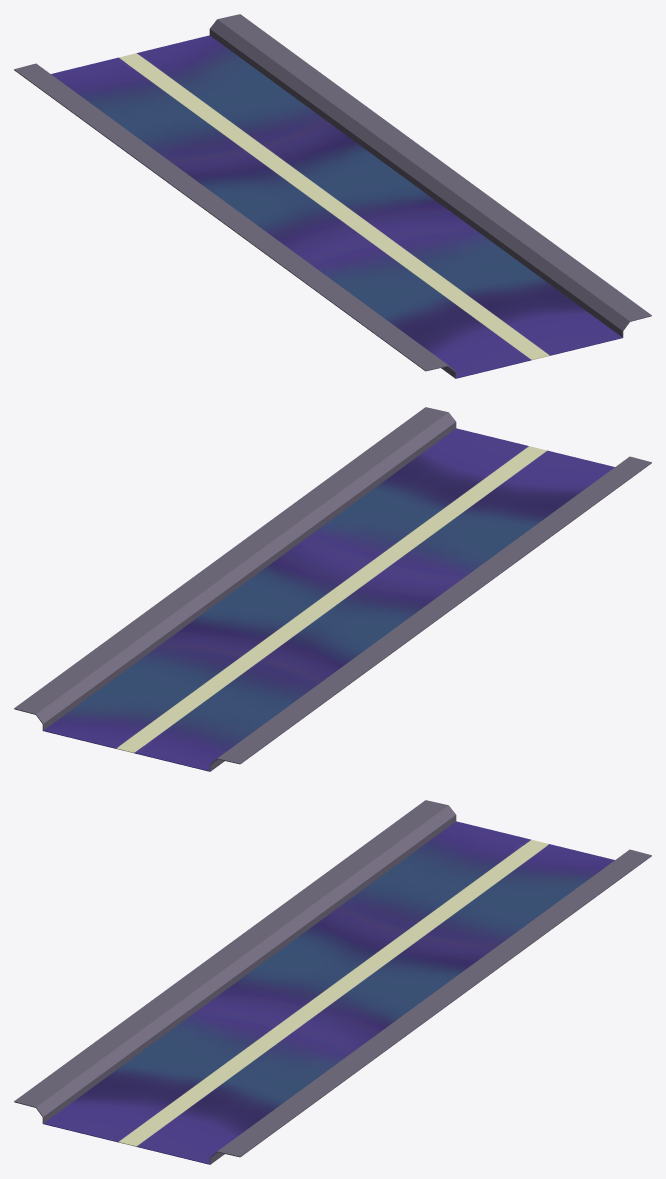
Rendered from SM_ARCH_Road_v01.fbx.
3 views of the same model, one above another, from view 1: azimuth 30°, elevation 25°; view 2: azimuth 150°, elevation 25°; view 3: azimuth 330°, elevation 25° (orthographic).
Visible parts, largest first — view 1: rect-road; view 2: rect-road; view 3: rect-road.
Boxes of the visible parts, x1,y1,x2,y2 form: rect-road: [14, 14, 651, 378]; rect-road: [14, 407, 651, 771]; rect-road: [14, 800, 651, 1164].
Bounding box in the file's own units: 714 × 45.25 × 2255.
2 materials, 1 textured.
